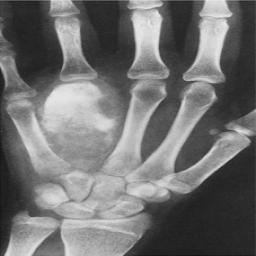cancer: (42, 83, 116, 170)
